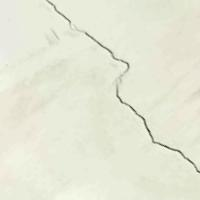crack: (44, 0, 199, 184)
